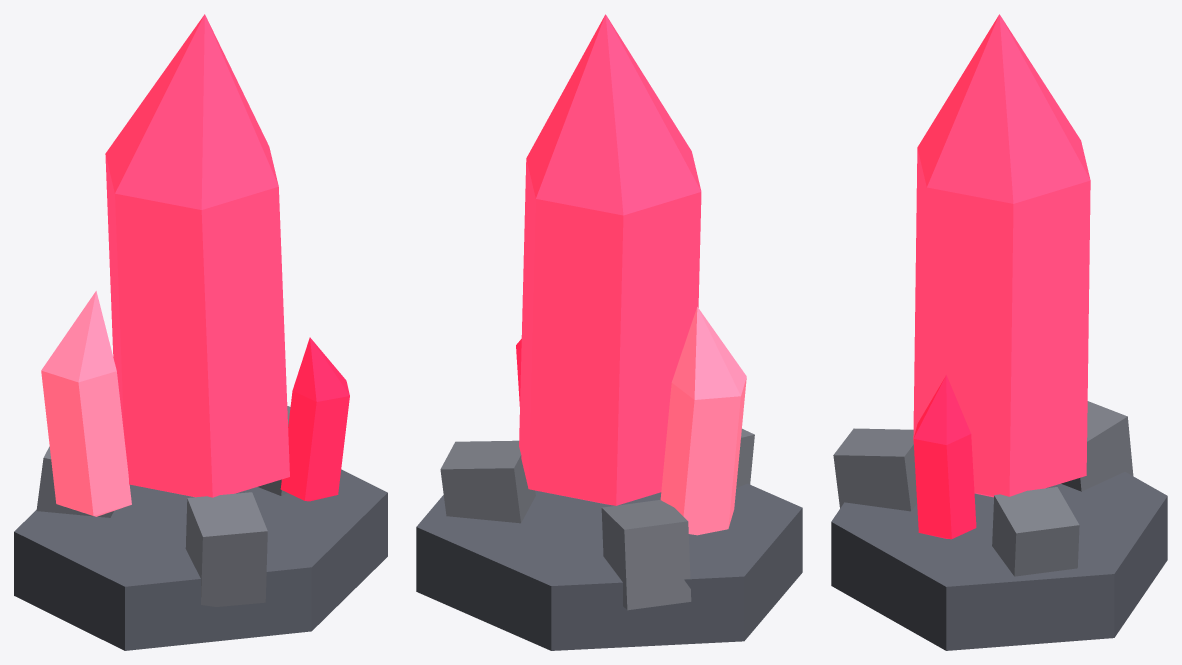
Rendered from LowPoly_MagicStone_B.fbx.
The picture shows the model from 3 angles, left to right: view 1: azimuth 30°, elevation 25°; view 2: azimuth 150°, elevation 25°; view 3: azimuth 270°, elevation 25°; orthographic projection.
Parts seen in each view (by area): view 1: Crystal.001, Pedestal.001, Crystal_Shard_A, Pedestal_Block_2, Crystal_Shard_B, Pedestal_Block_1; view 2: Crystal.001, Pedestal.001, Crystal_Shard_A, Pedestal_Block_1, Pedestal_Block_0, Pedestal_Block_2; view 3: Crystal.001, Pedestal.001, Crystal_Shard_B, Pedestal_Block_0, Pedestal_Block_2, Pedestal_Block_1.
Boxes of the visible parts, x1,y1,x2,y2 form: Crystal.001: (105,14,289,497); Pedestal.001: (14,469,387,650); Crystal_Shard_A: (41,291,131,516); Pedestal_Block_2: (185,492,267,606); Crystal_Shard_B: (280,337,349,501); Pedestal_Block_1: (36,446,113,517); Crystal.001: (519,14,701,505); Pedestal.001: (416,483,802,650); Crystal_Shard_A: (660,307,746,535); Pedestal_Block_1: (601,500,691,610); Pedestal_Block_0: (440,440,535,523); Pedestal_Block_2: (736,428,754,487); Crystal.001: (913,14,1090,497); Pedestal.001: (831,472,1167,650); Crystal_Shard_B: (913,375,976,539); Pedestal_Block_0: (992,487,1079,576); Pedestal_Block_2: (833,428,916,511); Pedestal_Block_1: (1061,401,1133,491).
Bounding box in the file's own units: 1.67 × 2.8 × 1.52.
